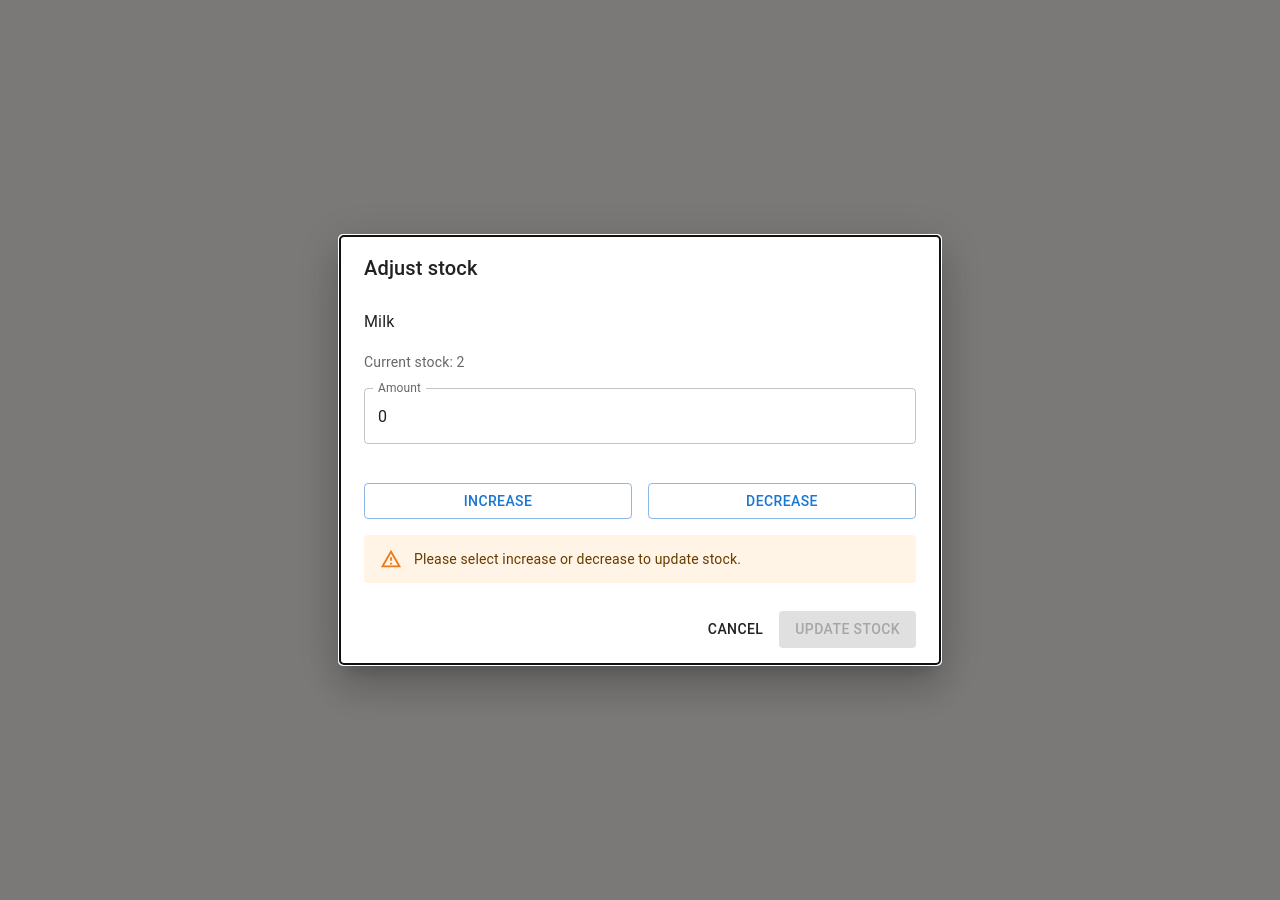
Test: AdjustStockModal - user story tests › handles backend detail string shape: shows detail as error
This screenshot has width=1280, height=900.
Replace the text in the number field labelled "Amount" with "1" at [640, 416], box 364,388 -> 916,444
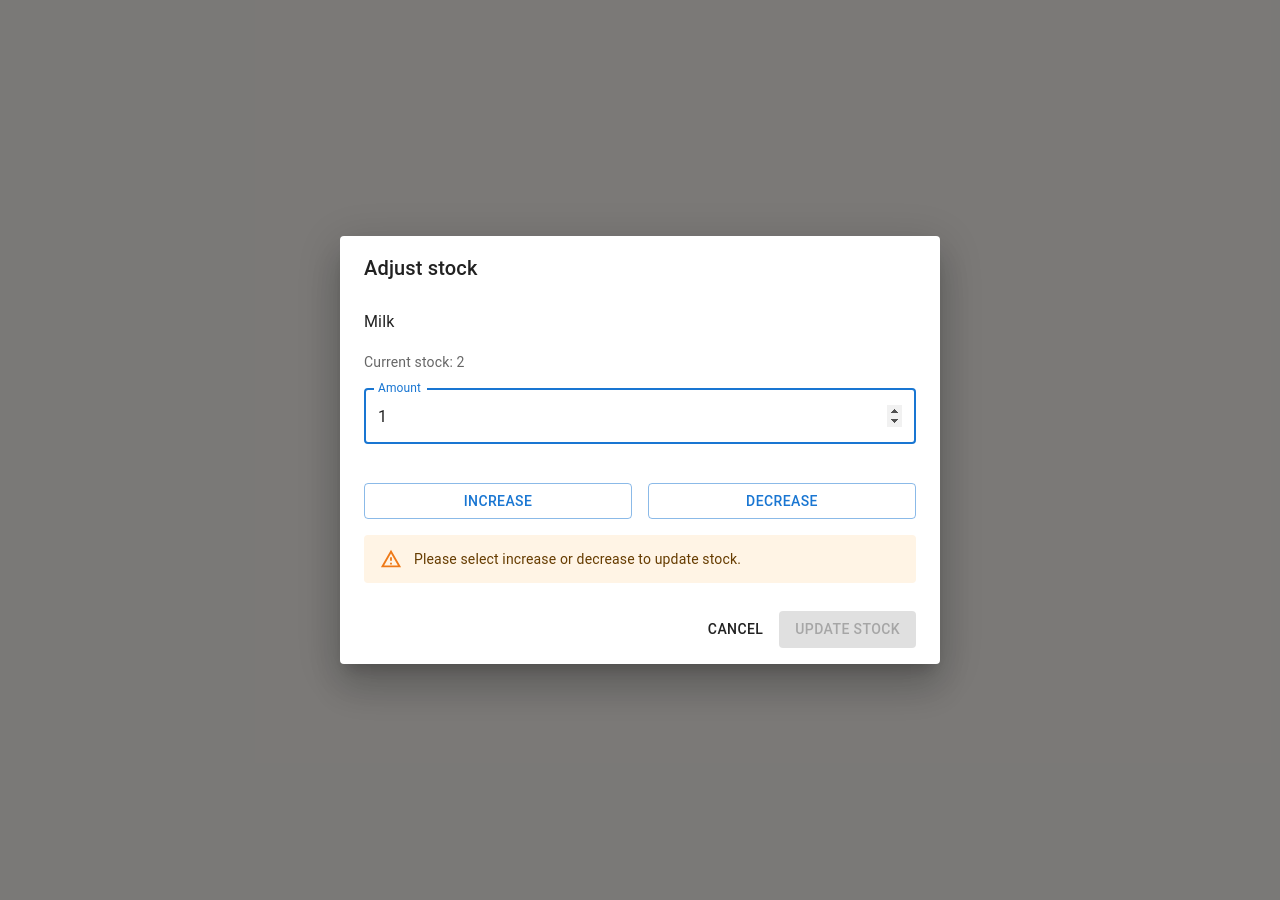
Click the button "Decrease" at [782, 501], box 648,483 -> 916,520
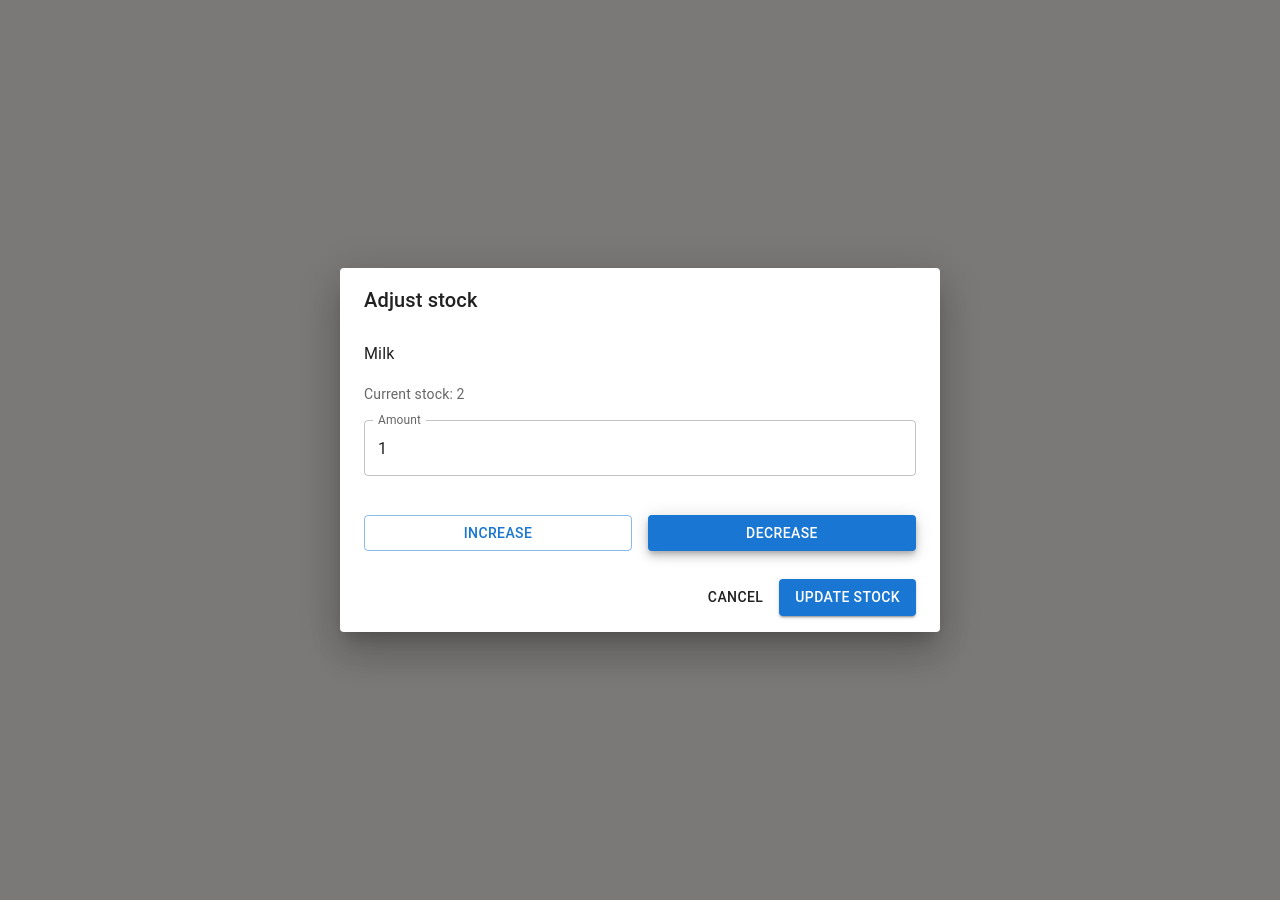
Click the button "Update stock" at [848, 598], box 779,580 -> 916,616
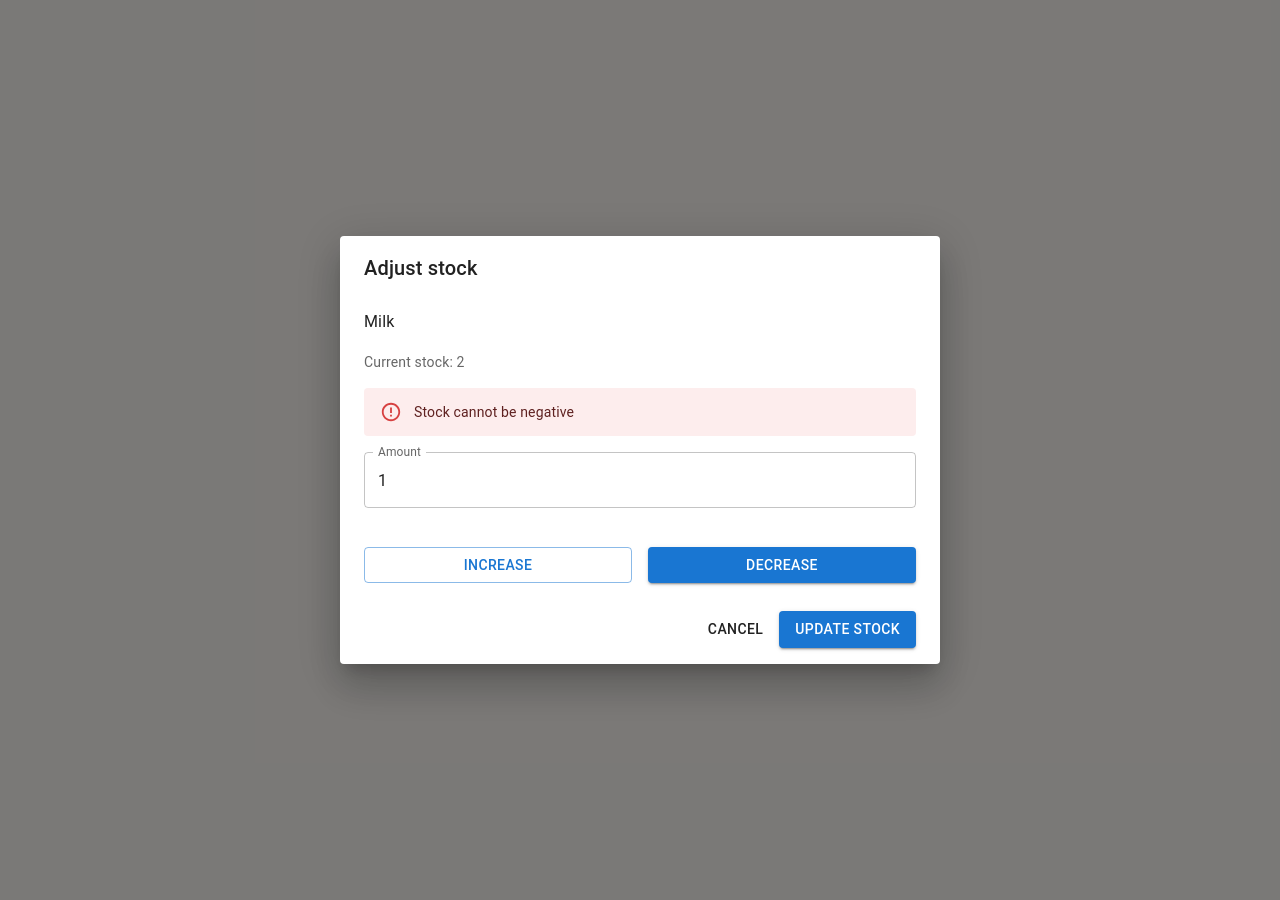
Now the text "Stock cannot be negative" is shown, box 414,404 -> 574,420
